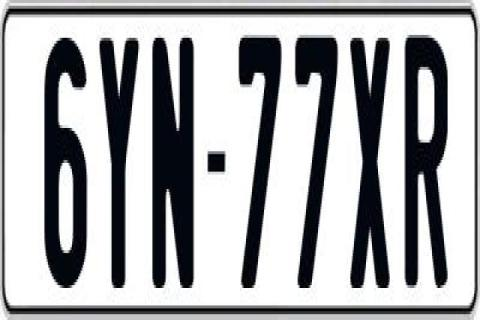0: (238, 29, 284, 297), (292, 35, 336, 303), (41, 29, 83, 288)
N: (152, 38, 198, 297)
R: (404, 35, 448, 294)
X: (350, 35, 392, 297)
Y: (98, 32, 140, 296)
